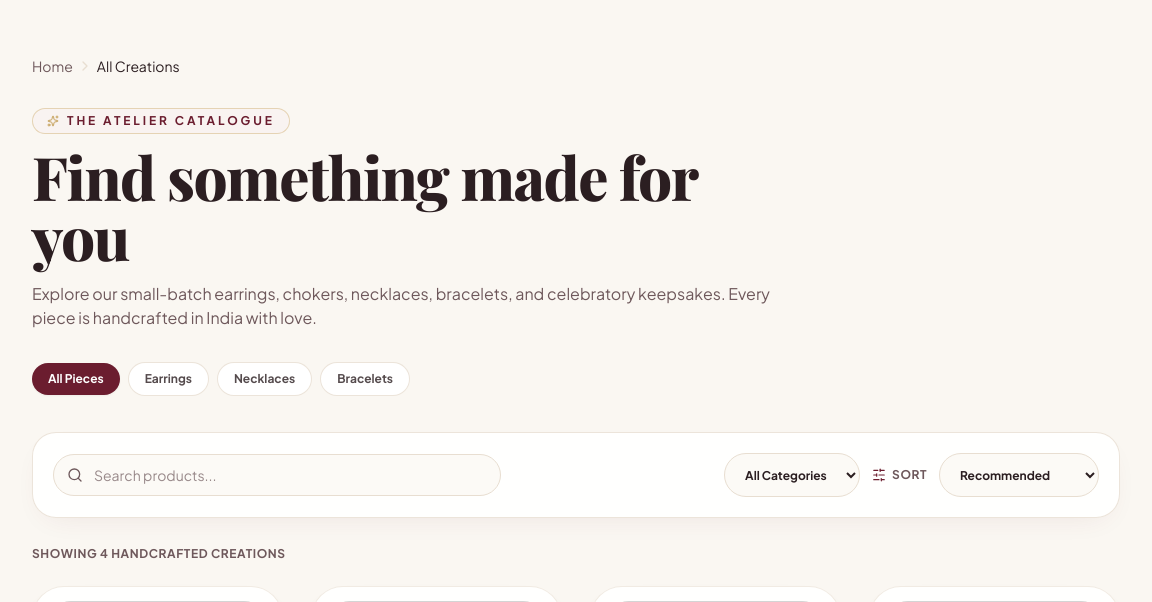
Test case: ProductsPage › clears all active filters when Clear button is clicked
The image size is (1152, 602).
Select "Earrings" in the dropdown named "Filter by category" at (792, 475), box top-left (724, 453), bottom-right (860, 497)
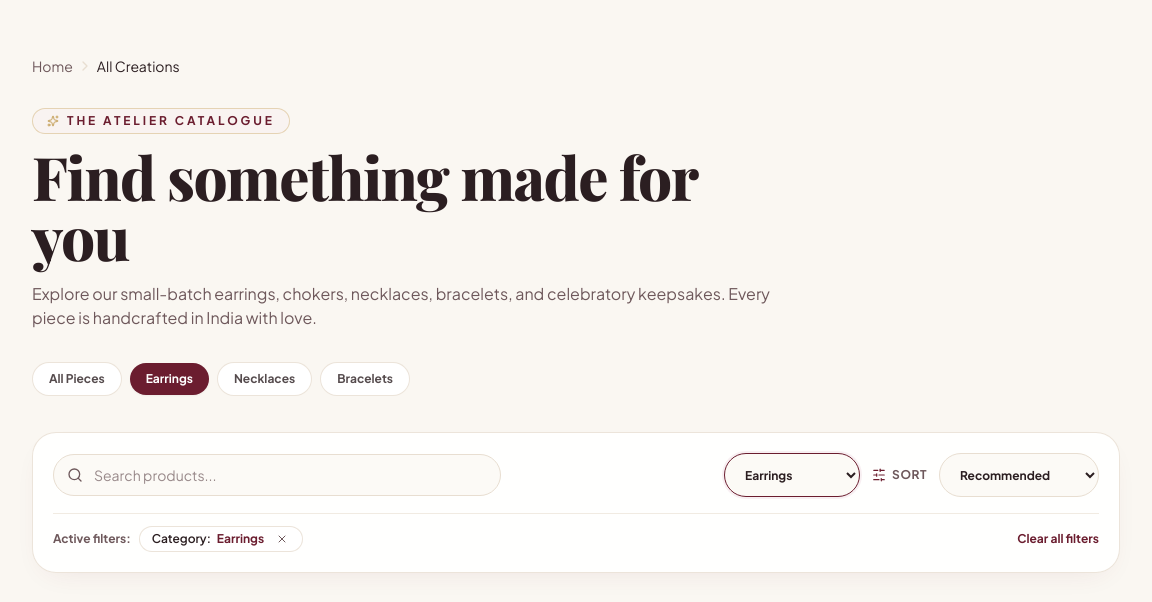
Click the button "Clear all filters" at (1058, 539), box top-left (1017, 531), bottom-right (1099, 547)
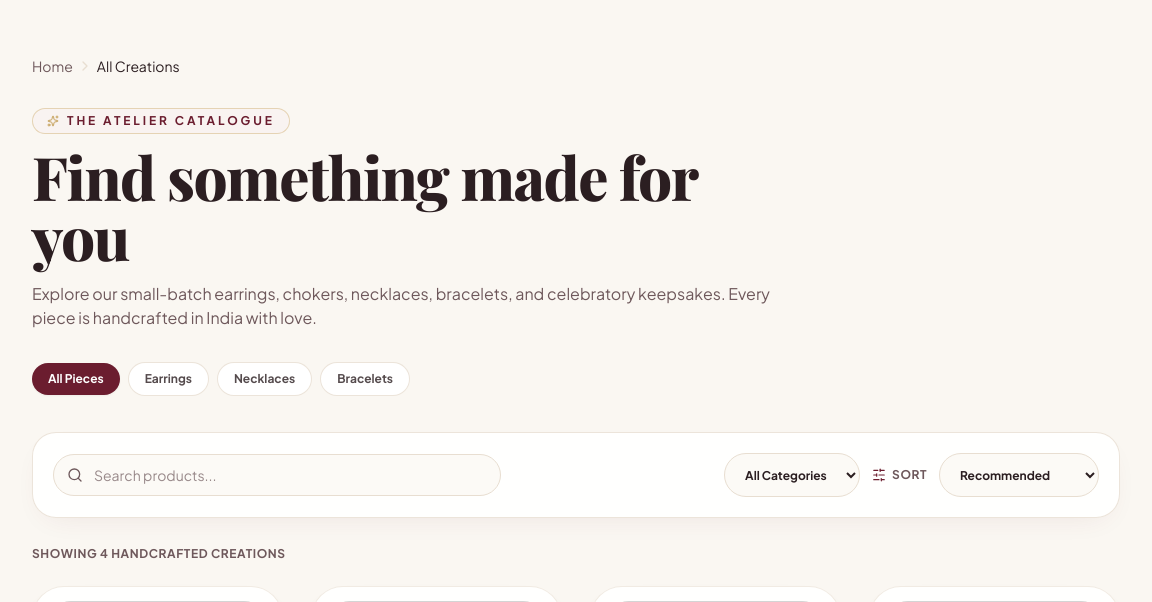
Expected: the text "Active filters:" is gone
